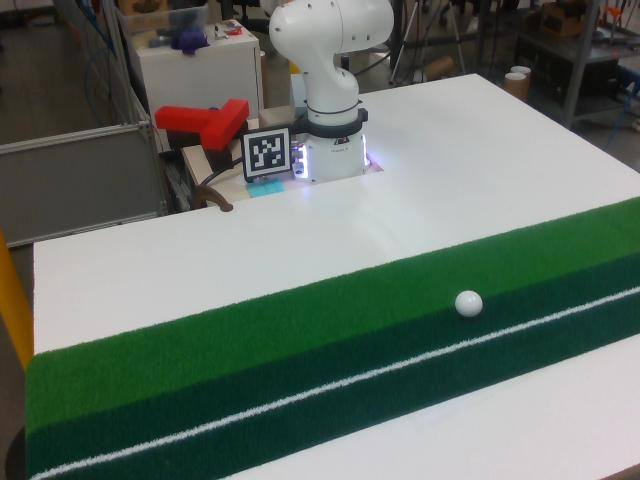golf_balls: (455, 290, 483, 318)
